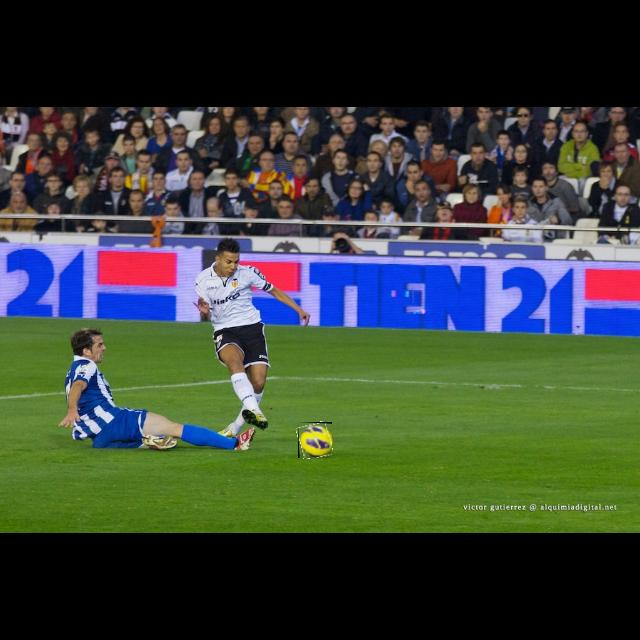Football: (298, 422, 332, 458)
